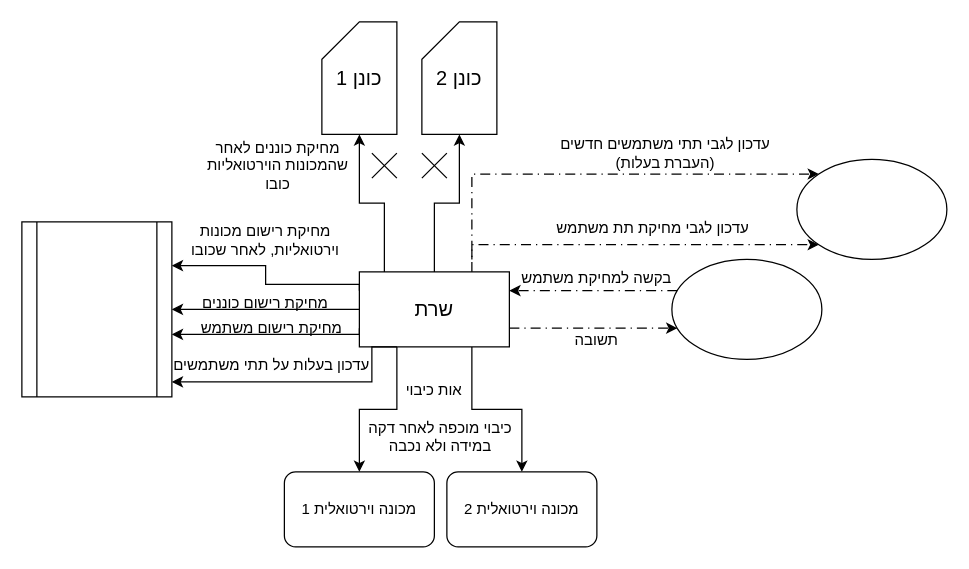
The diagram is 969 pixels wide and 569 high, and some of its shapes have lost their labels. The shapes that lost their labels are listed below. From the top down, each one's box as (x1, y1, x2, y2) in pixels, then its label:
(796, 158, 947, 259): משתמש בעל
(21, 221, 172, 397): מסד נתונים
(671, 258, 822, 359): משתמש
